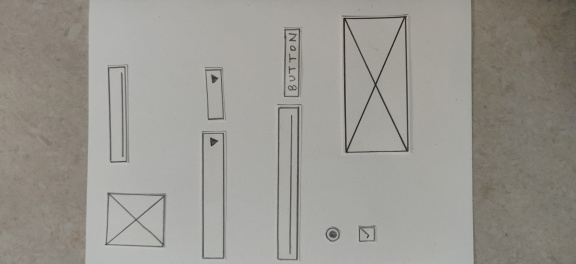button: (282, 26, 304, 100)
checkbox: (356, 223, 377, 244)
dropdown: (198, 128, 229, 261), (203, 65, 228, 123)
img: (337, 13, 413, 156), (103, 189, 168, 251)
radio: (323, 225, 342, 244)
text: (274, 104, 303, 262), (103, 62, 132, 165)
